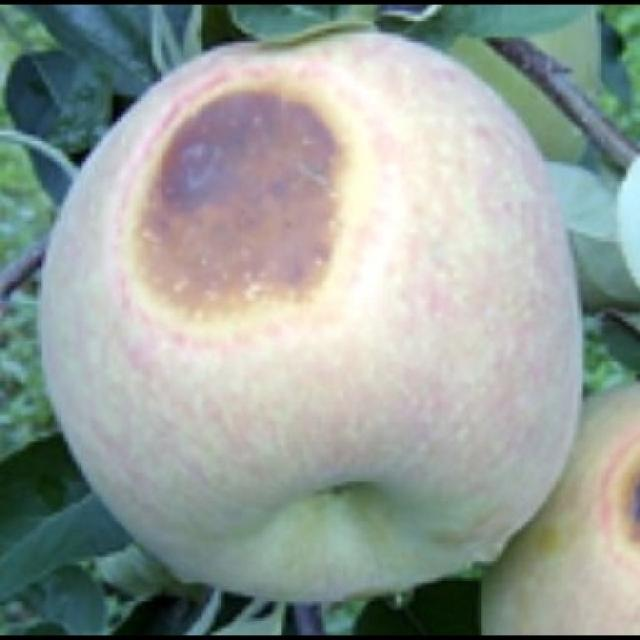Rotten Apple: (31, 24, 589, 610)
